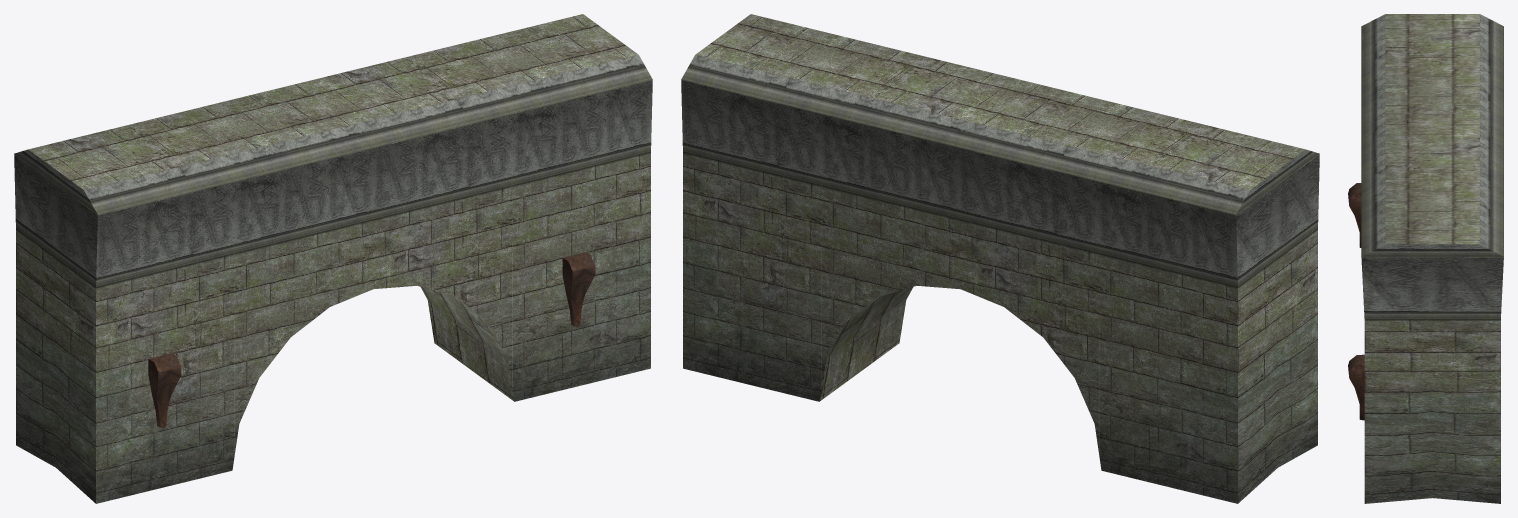
File: OrnatedArch_lod.fbx
3 renders of one model, left to right at view 1: azimuth 30°, elevation 25°; view 2: azimuth 150°, elevation 25°; view 3: azimuth 270°, elevation 25°, orthographic. The views are drawn at different scales.
Visible parts, largest first — view 1: Mesh Object; view 2: Mesh Object; view 3: Mesh Object.
Part boxes in pixels (x1=…): Mesh Object: x1=14, y1=14, x2=652, y2=503; Mesh Object: x1=681, y1=14, x2=1319, y2=503; Mesh Object: x1=1348, y1=14, x2=1503, y2=503.
Bounding box in the file's own units: 4 × 2.1 × 1.14.
